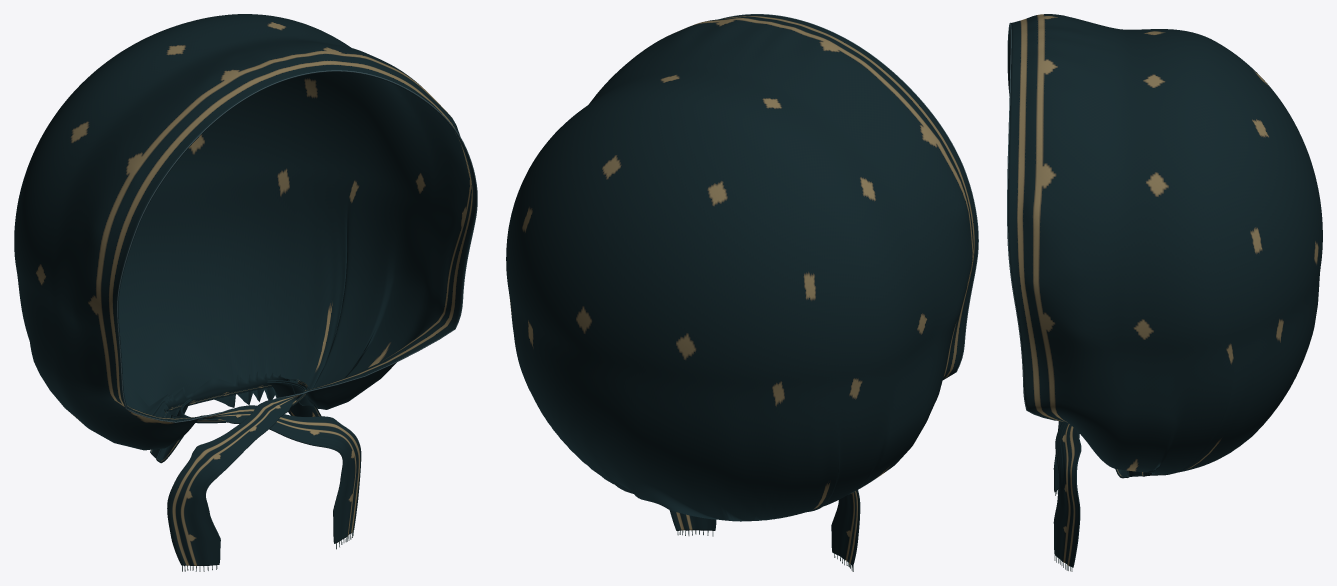
File: Masculine-afro-tshirt-pashmina250-headgear.glb
3 views of the same model, side by side, from view 1: azimuth 30°, elevation 25°; view 2: azimuth 150°, elevation 25°; view 3: azimuth 270°, elevation 25° (orthographic). The views are drawn at different scales.
Parts seen in each view (by area): view 1: 226 headgear / Headwear / continuous woven pashmina239, 226 headgear / Headwear / face edge239; view 2: 226 headgear / Headwear / continuous woven pashmina239, 226 headgear / Headwear / face edge239; view 3: 226 headgear / Headwear / continuous woven pashmina239, 226 headgear / Headwear / face edge239.
Part boxes in pixels (box(x1,y1,x2,y2)): 226 headgear / Headwear / continuous woven pashmina239: box(14, 14, 476, 565); 226 headgear / Headwear / face edge239: box(117, 70, 477, 422); 226 headgear / Headwear / continuous woven pashmina239: box(506, 14, 977, 566); 226 headgear / Headwear / face edge239: box(719, 14, 978, 380); 226 headgear / Headwear / continuous woven pashmina239: box(1008, 14, 1322, 567); 226 headgear / Headwear / face edge239: box(1007, 22, 1057, 420).
Bounding box in the file's own units: 1.14 × 1.45 × 0.833.
3 materials, 1 textured.
